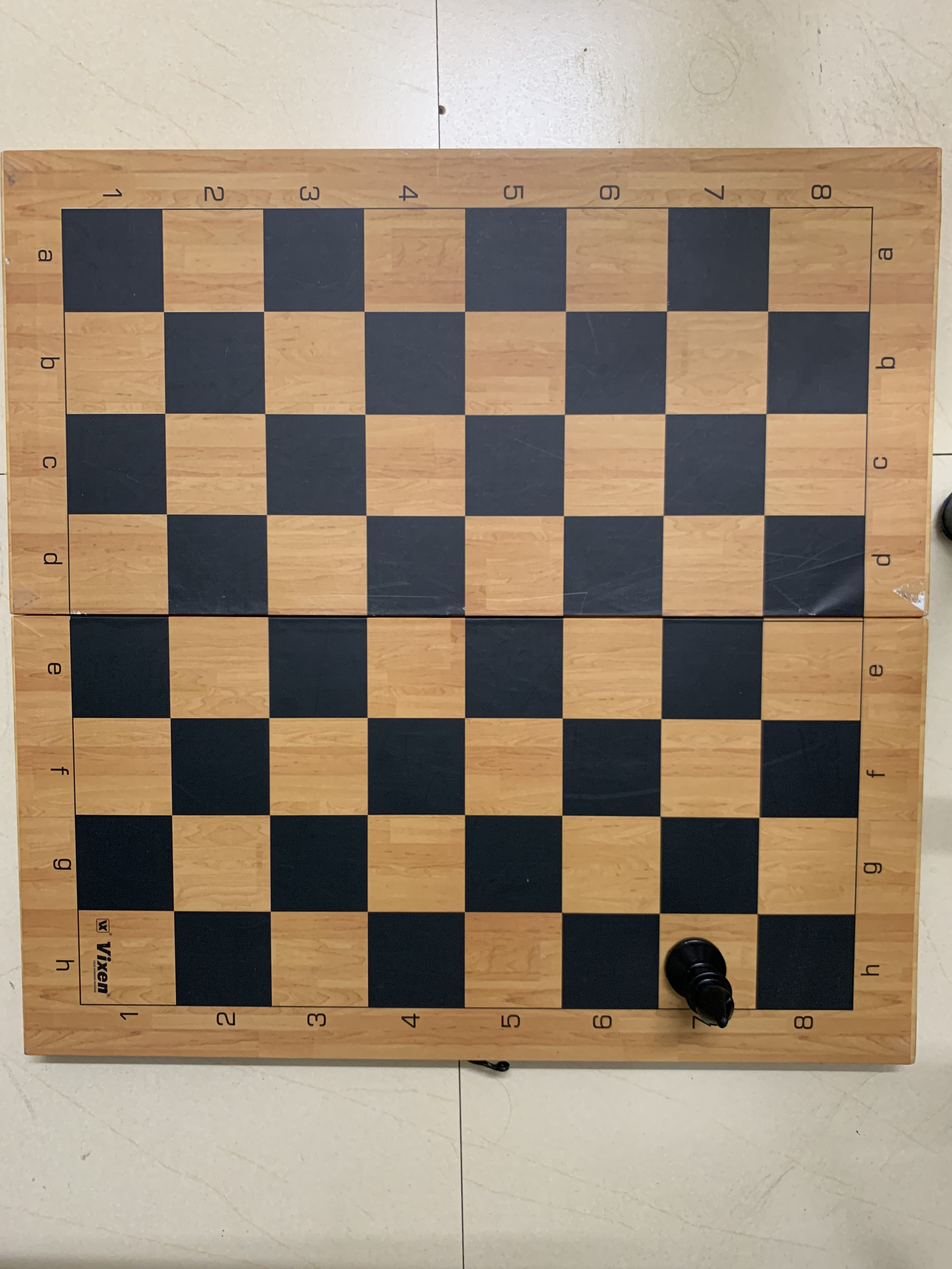black_bishop: (658, 910, 745, 1027)
